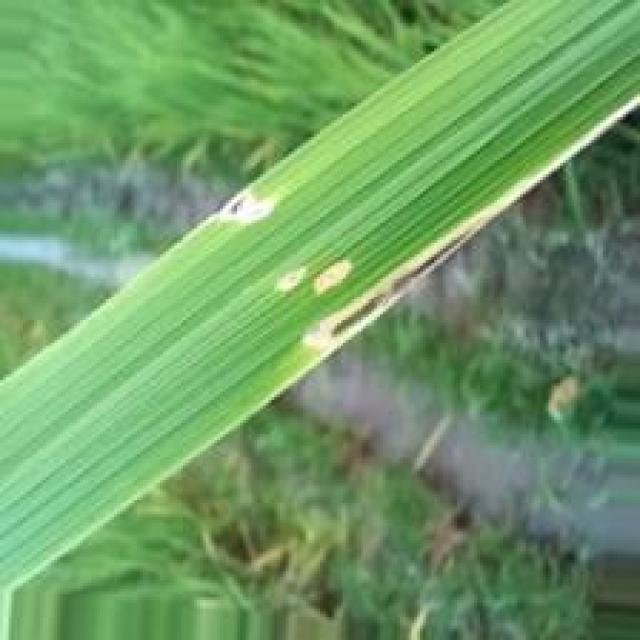Rice_Hispa: (298, 94, 640, 359), (216, 188, 284, 230), (273, 260, 352, 292)
